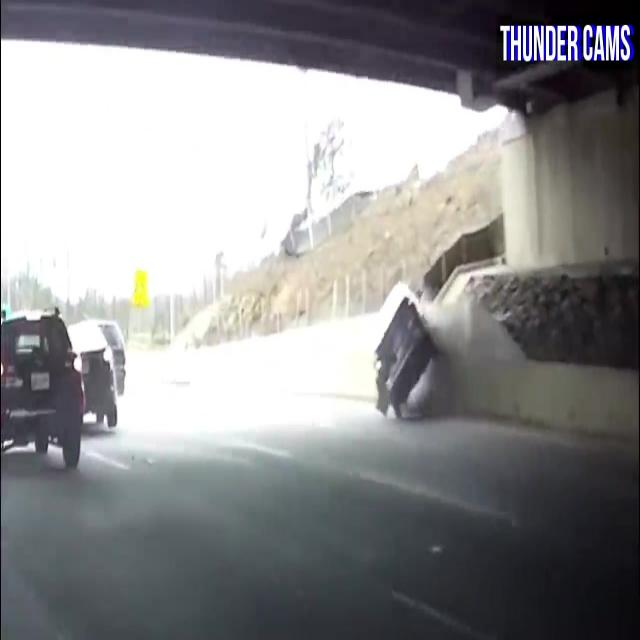accident: (348, 302, 457, 444)
